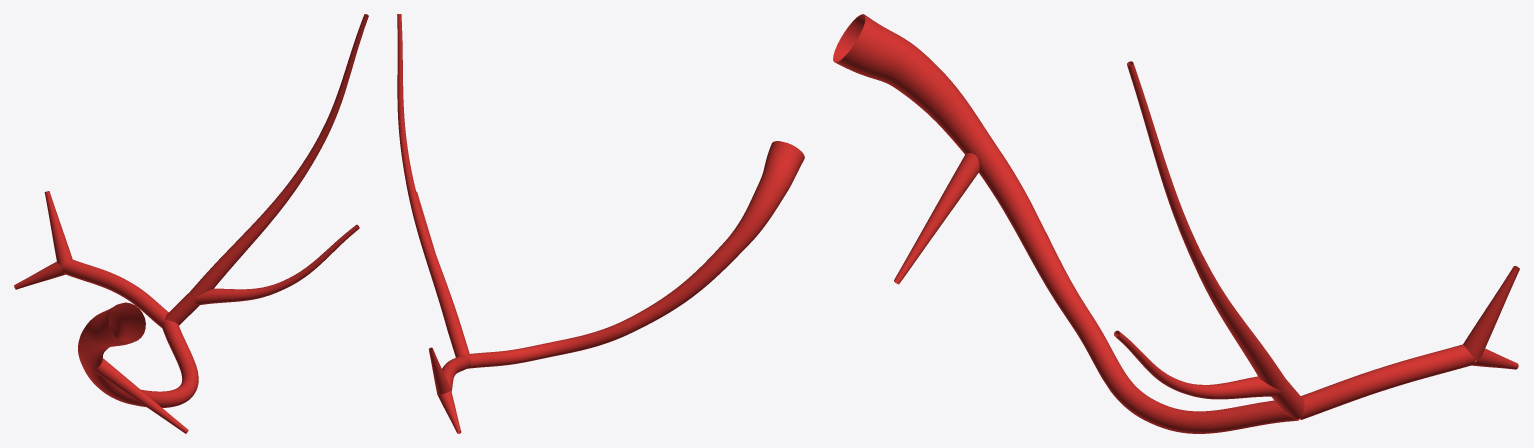
Rendered from circulatorio-superior-gluteal-artery-l.glb.
3 views of the same model, side by side, from view 1: azimuth 30°, elevation 25°; view 2: azimuth 150°, elevation 25°; view 3: azimuth 270°, elevation 25° (orthographic). The views are drawn at different scales.
Visible parts, largest first — view 1: Superior gluteal artery.l; view 2: Superior gluteal artery.l; view 3: Superior gluteal artery.l.
Part boxes in pixels (x1,y1,x2,y2): Superior gluteal artery.l: [14, 14, 368, 433]; Superior gluteal artery.l: [397, 14, 804, 433]; Superior gluteal artery.l: [833, 14, 1519, 433].
Bounding box in the file's own units: 0.0483 × 0.0441 × 0.0579.
